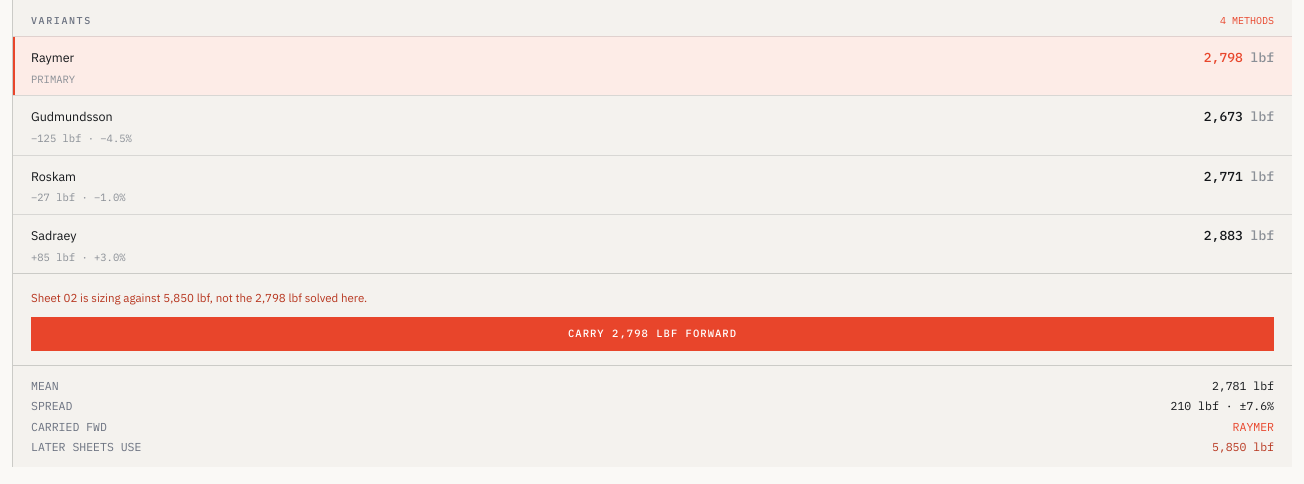
Test: carrying forward writes the shared weight and commits the stage
Click the button "CARRY 2,798 LBF FORWARD" at (652, 334), box [31,317,1274,351]
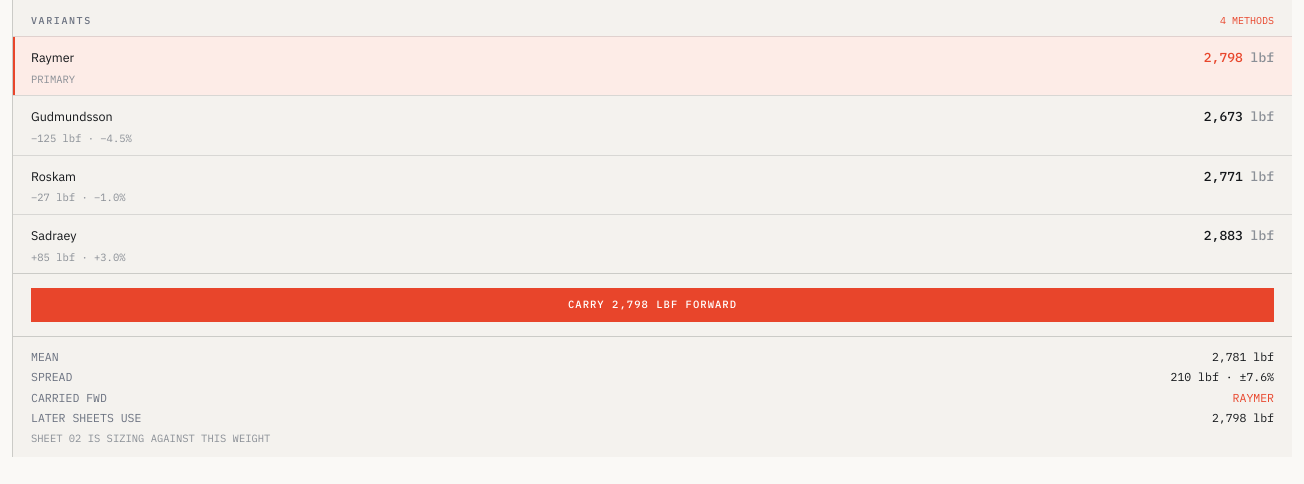
Check: the text "SHEET 02 IS SIZING AGAINST THIS WEIGHT" is shown, box [31,431,270,445]
